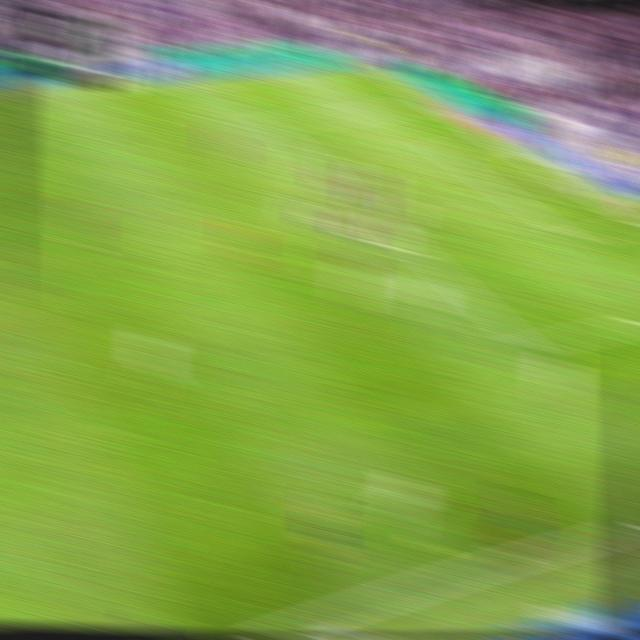bigarea_bottom_inner: (514, 331, 544, 361)
bigarea_top_inner: (257, 114, 283, 133)
bottom_arc_area_intersection: (404, 242, 429, 259)
corner: (352, 59, 380, 73)
smallarea_bottom_inner: (560, 226, 588, 248)
smallarea_top_inner: (429, 144, 454, 158)
top_arc_area_intersection: (315, 165, 341, 183)
